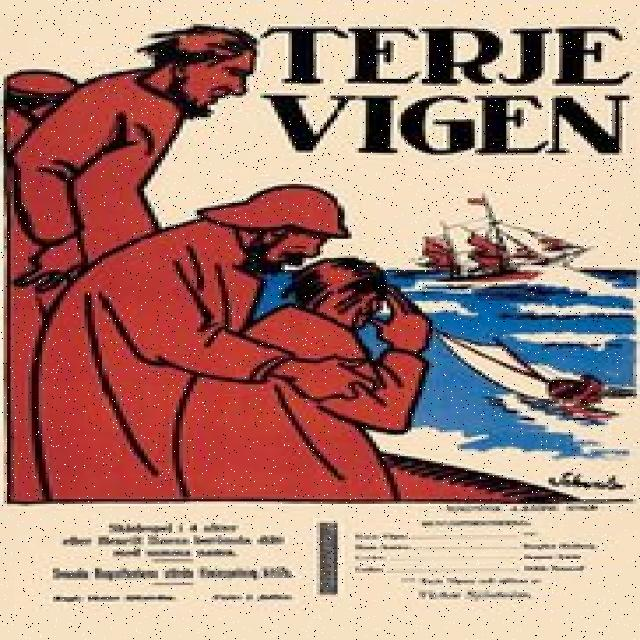movie-judul: (261, 20, 634, 168)
picture: (2, 23, 616, 498)
